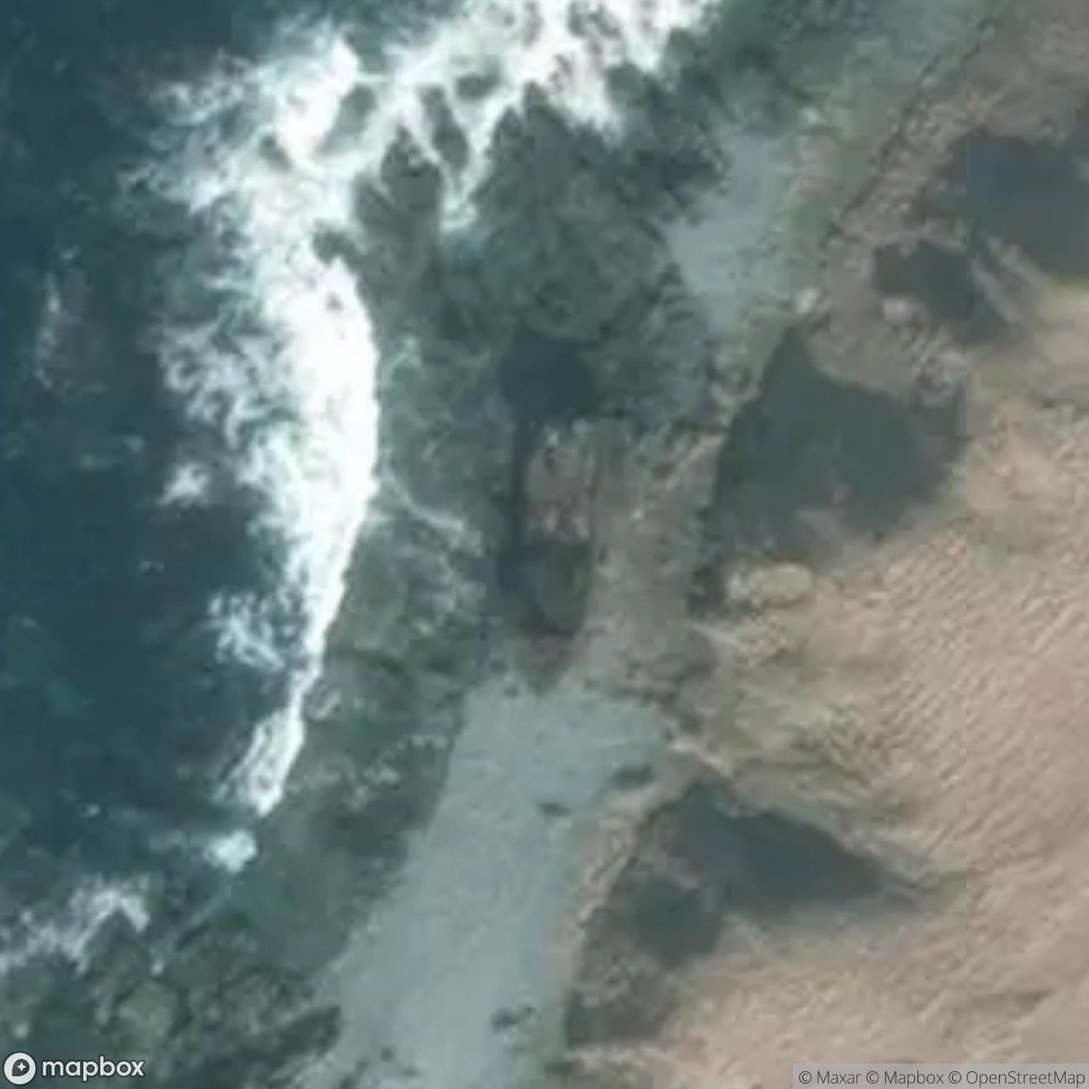Wreck: (466, 385, 640, 717)
